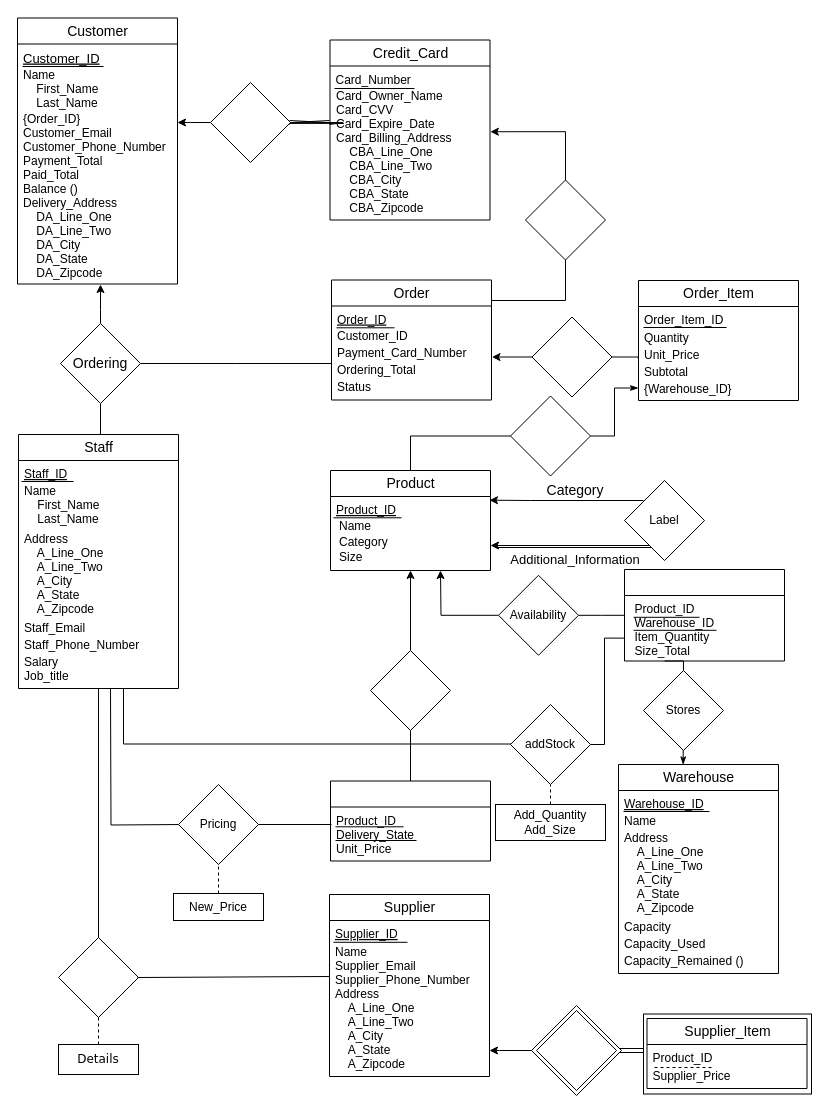
The diagram is 829 pixels wide and 1113 high, and some of its shapes have lost their labels. Here are the shapes that lost their labels. From the top down, the box of each, then its label:
(210, 82, 290, 162): Owns
(524, 179, 606, 260): PaidWith
(531, 316, 612, 397): Includes
(510, 395, 590, 476): Selects
(624, 568, 784, 661): Stock
(370, 650, 450, 730): GetPrice
(330, 780, 490, 861): Product_Pricing
(58, 936, 138, 1018): Request
(536, 1010, 616, 1090): Supplies
